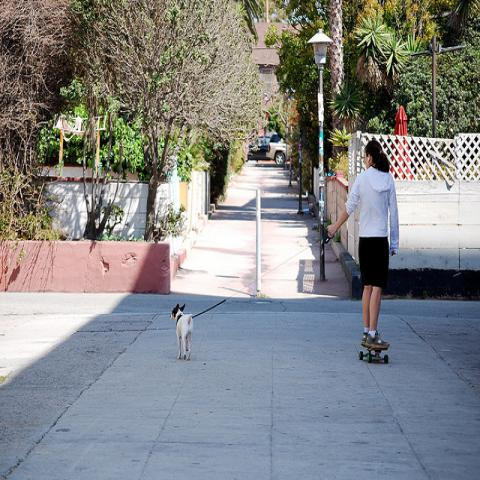car: (265, 132, 292, 165), (248, 134, 271, 161)
